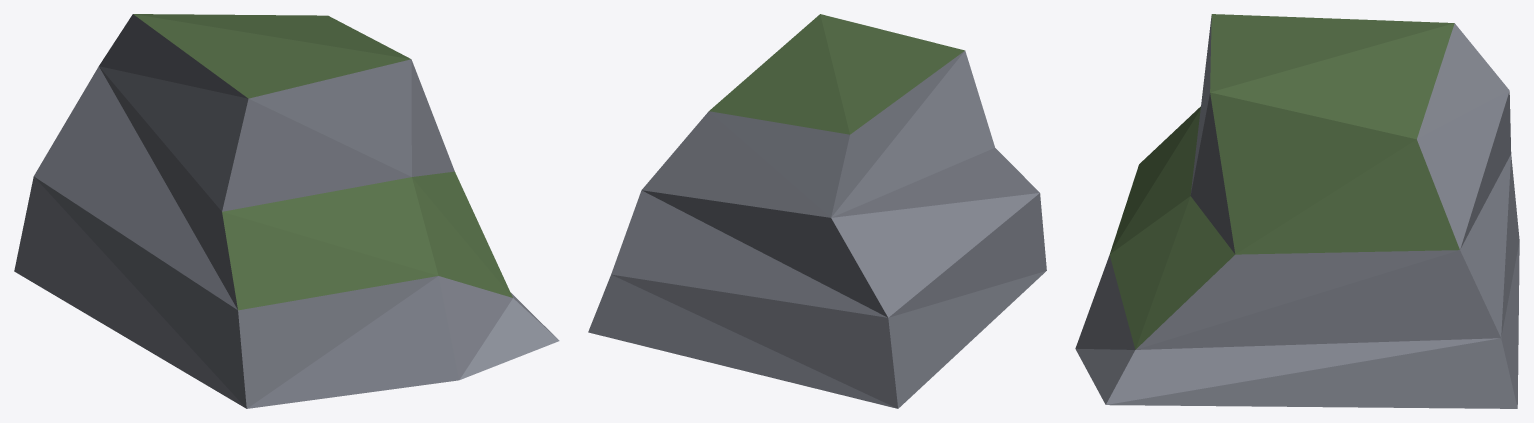
File: Rock_Moss_3.lod1.glb
The picture shows the model from 3 angles, left to right: view 1: azimuth 30°, elevation 25°; view 2: azimuth 150°, elevation 25°; view 3: azimuth 270°, elevation 25°; orthographic projection. The views are drawn at different scales.
Parts seen in each view (by area): view 1: Rock_Moss_3; view 2: Rock_Moss_3; view 3: Rock_Moss_3.
Boxes of the visible parts, x1,y1,x2,y2 form: Rock_Moss_3: (14,14,559,408); Rock_Moss_3: (588,14,1046,408); Rock_Moss_3: (1075,14,1519,408).
Bounding box in the file's own units: 0.7194 × 0.5301 × 0.8024.
